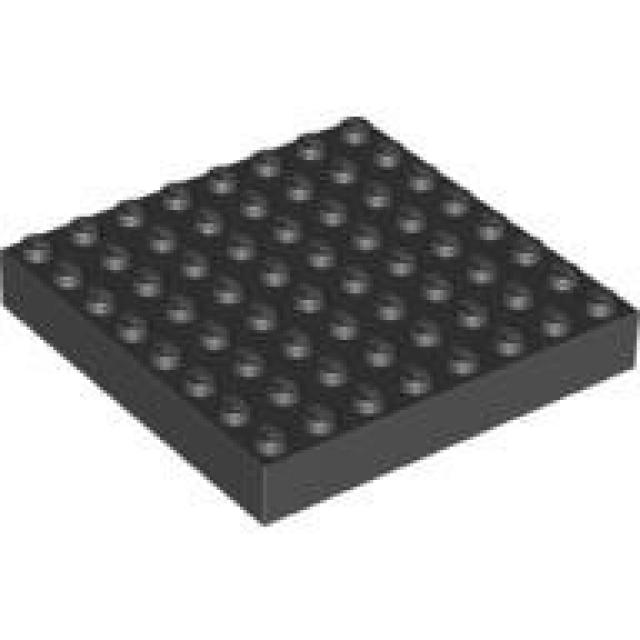Black_Large: (0, 117, 633, 527)
